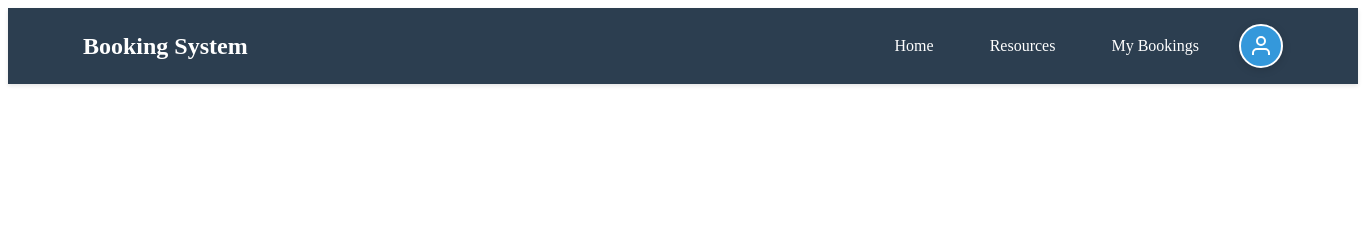
Test: Nav Component › Accessibility › logout button is keyboard accessible
Note: Open dropdown first
What coordinates should you click on to do the following:
click the button named "Profile menu"
I would click on:
 (1261, 46)
Its box is [1239,24,1283,68].
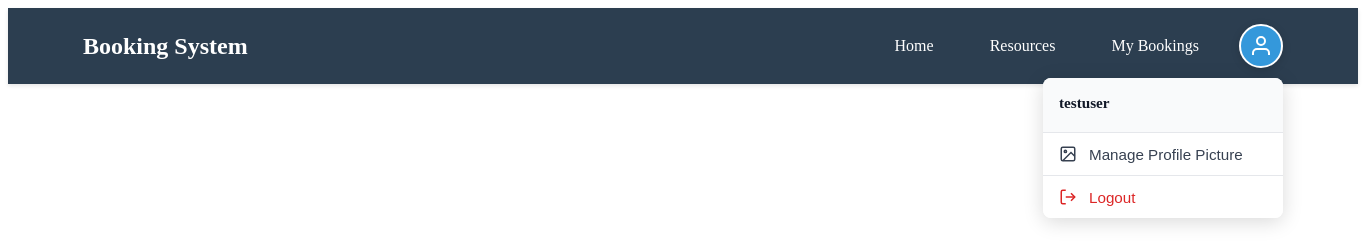
Expected: the button "Logout" is enabled, [1043,175,1283,218]
